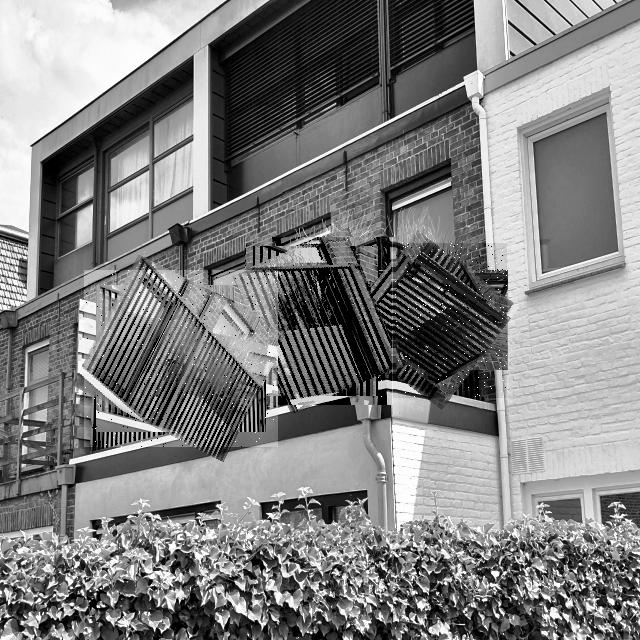fences: (84, 270, 278, 447), (245, 237, 396, 405), (353, 243, 507, 398)
